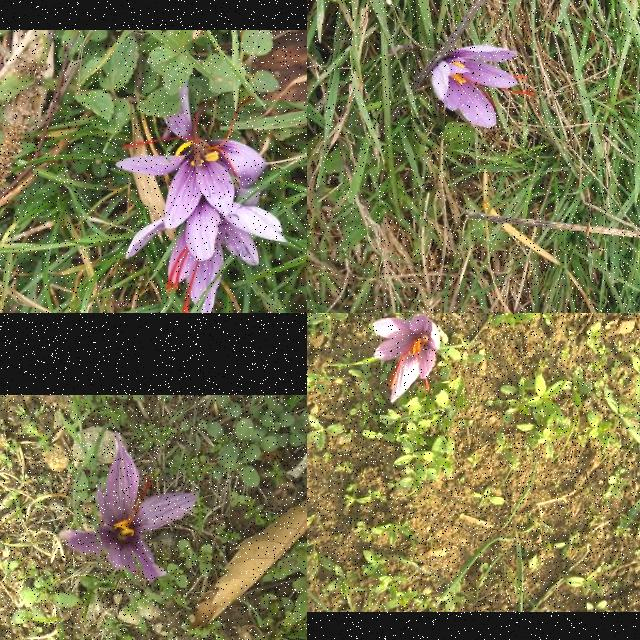flower: (60, 441, 200, 581), (432, 45, 538, 129), (372, 314, 442, 402)
overlap: (116, 87, 289, 313)
